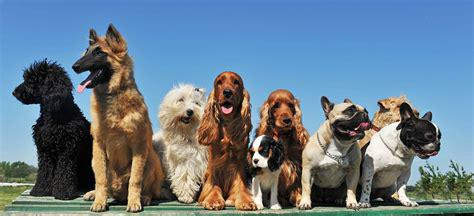dog: (71, 23, 162, 211), (12, 61, 91, 201), (360, 102, 439, 207), (300, 96, 371, 207), (199, 71, 253, 209), (257, 89, 309, 206), (159, 82, 207, 203), (248, 135, 284, 210)
